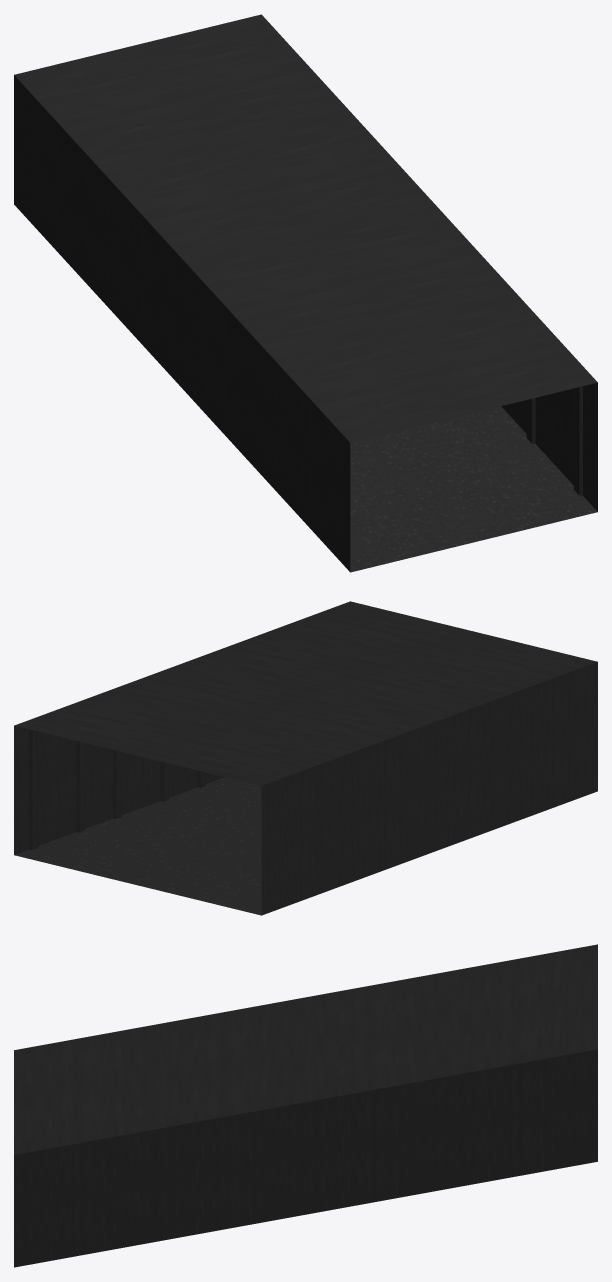
Rendered from SW_ENV_RailTunnel_TrackRise_Double_20m.fbx.
3 renders of one model, top to bottom at view 1: azimuth 30°, elevation 25°; view 2: azimuth 150°, elevation 25°; view 3: azimuth 270°, elevation 25°, orthographic. The views are drawn at different scales.
Parts seen in each view (by area): view 1: SW_ENV_RailTunnel_TrackRise_Double_20m; view 2: SW_ENV_RailTunnel_TrackRise_Double_20m; view 3: SW_ENV_RailTunnel_TrackRise_Double_20m.
Part boxes in pixels (x1=…): SW_ENV_RailTunnel_TrackRise_Double_20m: x1=14, y1=14, x2=597, y2=572; SW_ENV_RailTunnel_TrackRise_Double_20m: x1=14, y1=601, x2=597, y2=915; SW_ENV_RailTunnel_TrackRise_Double_20m: x1=14, y1=944, x2=597, y2=1267.
Bounding box in the file's own units: 850 × 825 × 2000.
